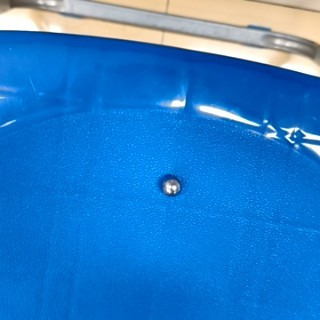ironball: (150, 172, 185, 200)
